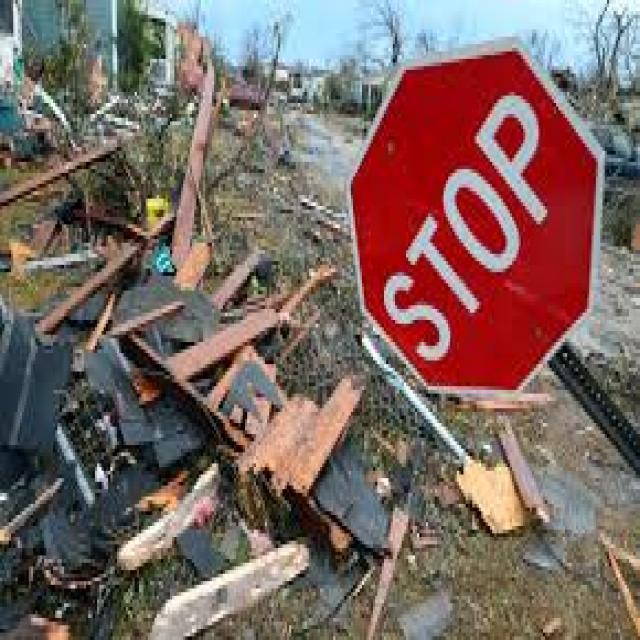stop-sign: (348, 38, 604, 371)
